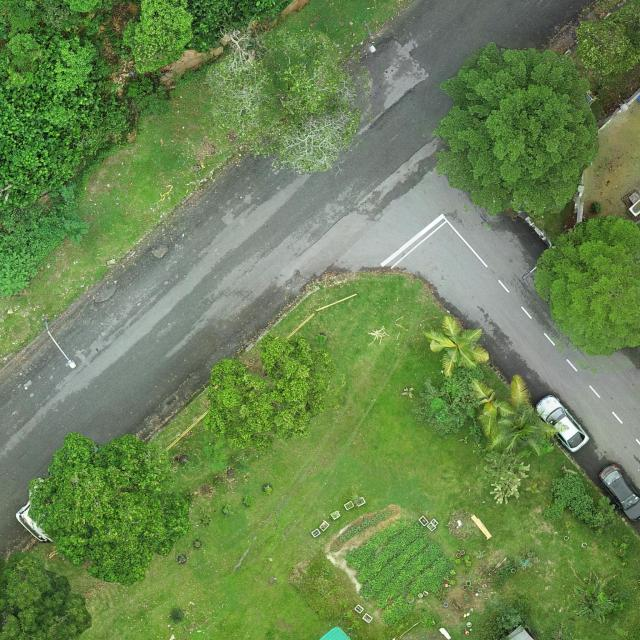Tree: (432, 41, 601, 217), (28, 431, 192, 588), (202, 21, 360, 177), (203, 333, 334, 453), (534, 212, 640, 359), (0, 549, 94, 640), (472, 373, 568, 458), (183, 0, 294, 55), (120, 0, 194, 79), (412, 365, 486, 444), (573, 0, 640, 77), (422, 314, 490, 378), (483, 451, 532, 506), (572, 580, 615, 623)
